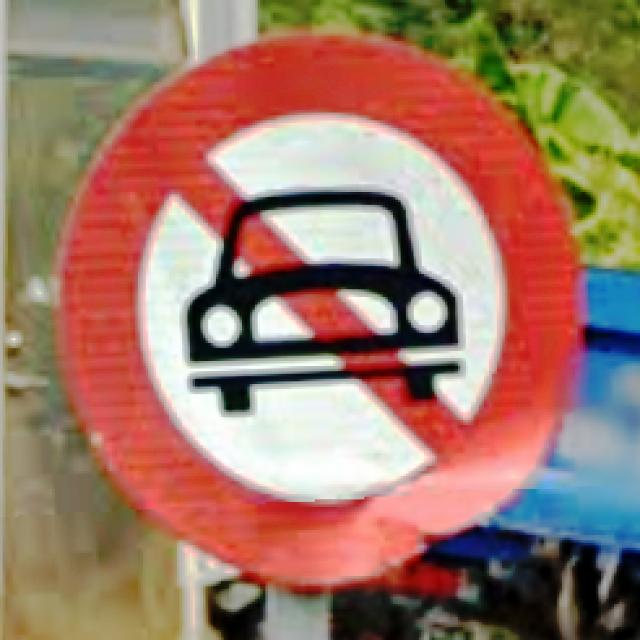nocar: (55, 31, 588, 596)
